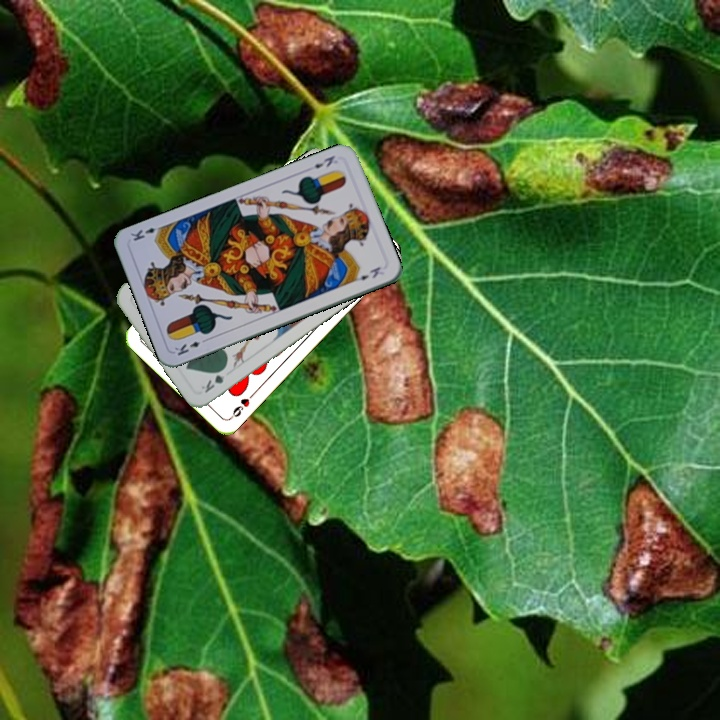EK: (170, 334, 211, 358), (310, 151, 337, 171)
GK: (197, 363, 229, 396)
H9: (226, 388, 257, 421)
